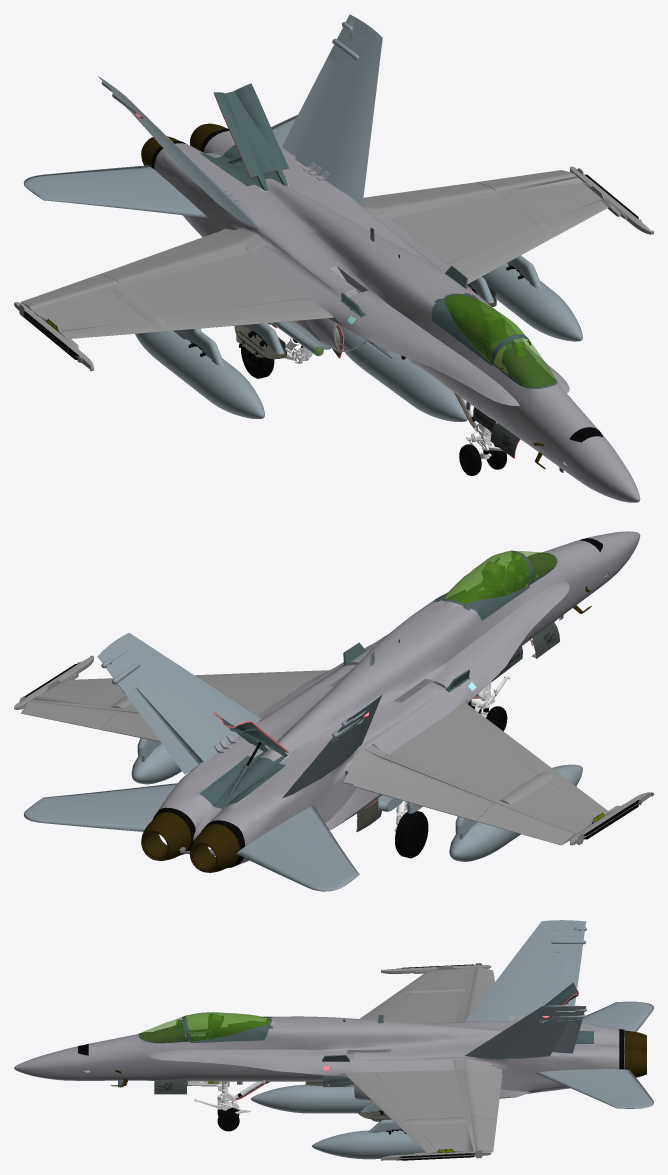
Rendered from ZDJ_01_v3.glb.
The picture shows the model from 3 angles, top to bottom: view 1: azimuth 30°, elevation 25°; view 2: azimuth 150°, elevation 25°; view 3: azimuth 270°, elevation 25°; orthographic projection. The views are drawn at different scales.
Parts seen in each view (by area): view 1: HornFuse, HornWing, HornLfue, HornRudd, HornEsta, HornLfl3, HornBrak, HornRfl3, HornRfla, HornCon5, HornFus3, HornCon8 (+14 smaller); view 2: HornFuse, HornWing, HornEsta, HornRudd, HornRfla, HornNozz, HornLfue, HornLfl3, HornCon5, HornCon8, HornBra4, HornRRud (+17 smaller); view 3: HornFuse, HornWing, HornRudd, HornLfue, HornEsta, HornLRud, HornLfla, HornRfl3, HornCon5, HornCon8, HornFus3, HornNozz (+13 smaller).
Boxes of the visible parts, x1,y1,x2,y2 form: HornFuse: (154,131,640,502); HornWing: (14,166,653,371); HornLfue: (135,263,582,421); HornRudd: (145,14,382,230); HornEsta: (23,114,297,217); HornLfl3: (63,298,333,338); HornBrak: (214,83,288,190); HornRfl3: (447,200,608,284); HornRfla: (101,228,257,282); HornCon5: (445,294,523,361); HornFus3: (438,294,556,387); HornCon8: (445,295,526,360); HornFuse: (157,531,640,865); HornWing: (14,655,653,845); HornEsta: (24,783,359,891); HornRudd: (97,632,261,762); HornRfla: (343,749,494,821); HornNozz: (141,812,239,872); HornLfue: (131,744,582,861); HornLfl3: (447,702,607,813); HornCon5: (445,551,529,603); HornCon8: (445,551,529,603); HornBra4: (199,751,285,808); HornRRud: (302,694,382,788); HornFuse: (14,1015,619,1100); HornWing: (375,963,491,1160); HornRudd: (465,920,586,1021); HornLfue: (250,1084,425,1159); HornEsta: (535,1001,653,1108); HornLRud: (465,1005,586,1058); HornLfla: (464,1059,502,1120); HornRfl3: (344,1072,436,1152); HornCon5: (186,1012,269,1041); HornCon8: (186,1012,268,1040); HornFus3: (140,1014,271,1042); HornNozz: (625,1030,646,1077).
Bounding box in the file's own units: 187 × 75.58 × 267.
Materials: 45 (9 with a texture image).
